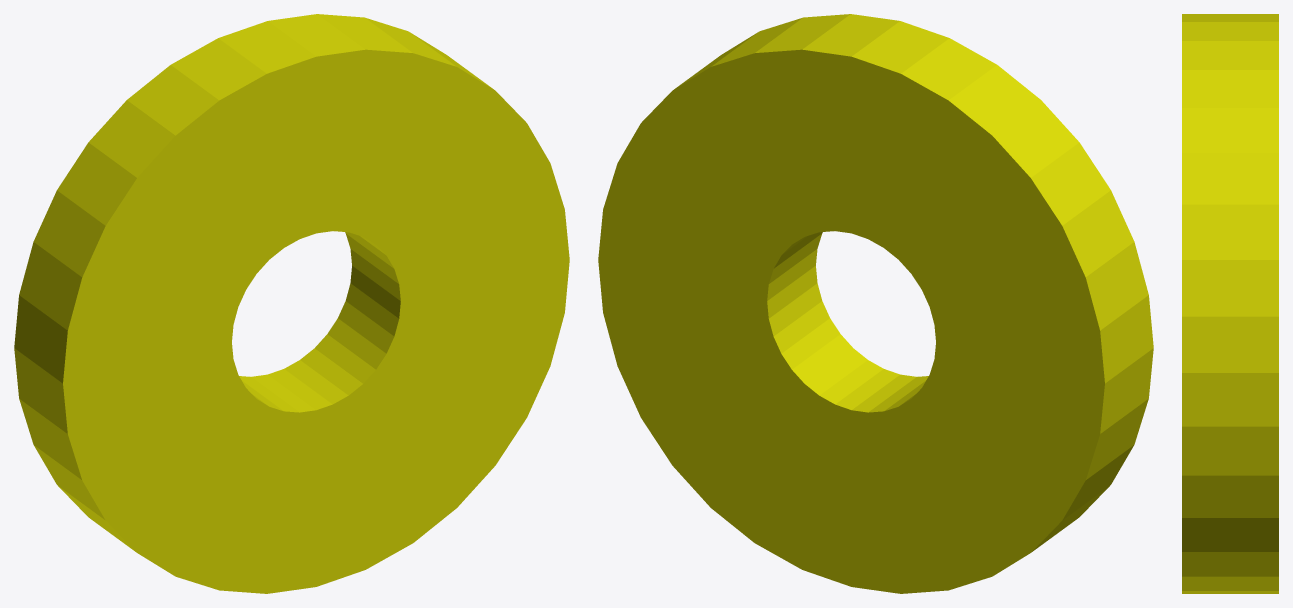
The model's file is nervous.glb.
3 views of the same model, side by side, from view 1: azimuth 30°, elevation 25°; view 2: azimuth 150°, elevation 25°; view 3: azimuth 270°, elevation 25° (orthographic).
Visible parts, largest first — view 1: geometry_0; view 2: geometry_0; view 3: geometry_0.
Boxes of the visible parts, box(x1,y1,x2,y2) form: geometry_0: box(14, 14, 569, 593); geometry_0: box(598, 14, 1153, 593); geometry_0: box(1182, 14, 1278, 593).
Size of the model in its own units: 3 by 3 by 0.5.
